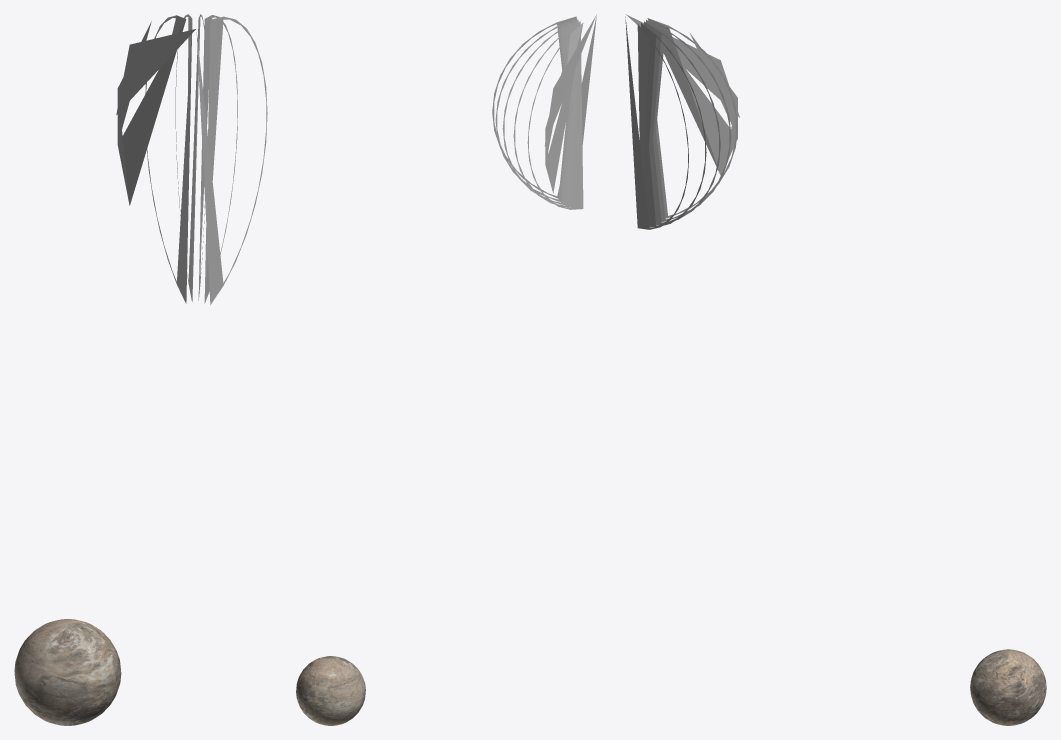
Rendered from planet.gltf.
3 renders of one model, left to right at view 1: azimuth 30°, elevation 25°; view 2: azimuth 150°, elevation 25°; view 3: azimuth 270°, elevation 25°, orthographic. The views are drawn at different scales.
Parts seen in each view (by area): view 1: BezierCircle, Sphere; view 2: BezierCircle, Sphere; view 3: BezierCircle, Sphere.
Boxes of the visible parts, bbox=[...] form: BezierCircle: bbox=[116, 14, 267, 304]; Sphere: bbox=[14, 619, 121, 725]; BezierCircle: bbox=[492, 14, 596, 209]; Sphere: bbox=[296, 656, 365, 725]; BezierCircle: bbox=[625, 14, 739, 229]; Sphere: bbox=[970, 649, 1046, 725].
Bounding box in the file's own units: 4 × 19 × 11.
